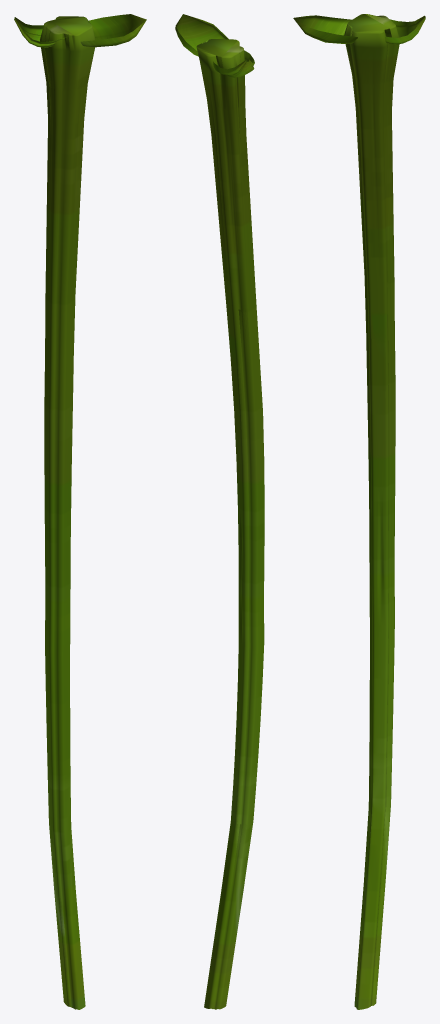
Rendered from leaves.obj.
3 renders of one model, left to right at view 1: azimuth 90°, elevation 25°; view 2: azimuth 210°, elevation 25°; view 3: azimuth 270°, elevation 25°, orthographic. The views are drawn at different scales.
Visible parts, largest first — view 1: Yellow_I12, Yellow_Ir1, Yellow_Ir2; view 2: Yellow_I12, Yellow_Ir1, Yellow_Ir2; view 3: Yellow_I12, Yellow_Ir1, Yellow_Ir2.
Boxes of the visible parts, bbox=[...] form: Yellow_I12: bbox=[40, 16, 95, 1009]; Yellow_Ir1: bbox=[80, 14, 146, 47]; Yellow_Ir2: bbox=[14, 17, 64, 47]; Yellow_I12: bbox=[196, 39, 264, 1009]; Yellow_Ir1: bbox=[175, 14, 228, 56]; Yellow_Ir2: bbox=[213, 50, 254, 77]; Yellow_I12: bbox=[344, 14, 399, 1009]; Yellow_Ir1: bbox=[293, 15, 357, 43]; Yellow_Ir2: bbox=[385, 15, 425, 44].
Bounding box in the file's own units: 39.91 × 668 × 81.42.
